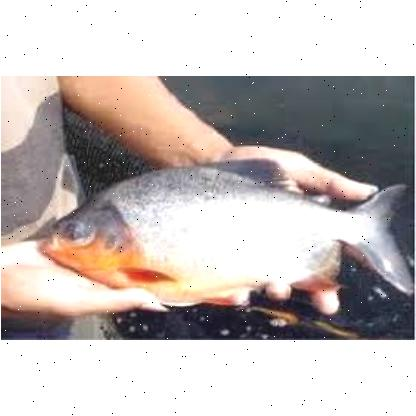ikan-pacu: (43, 159, 413, 307)
